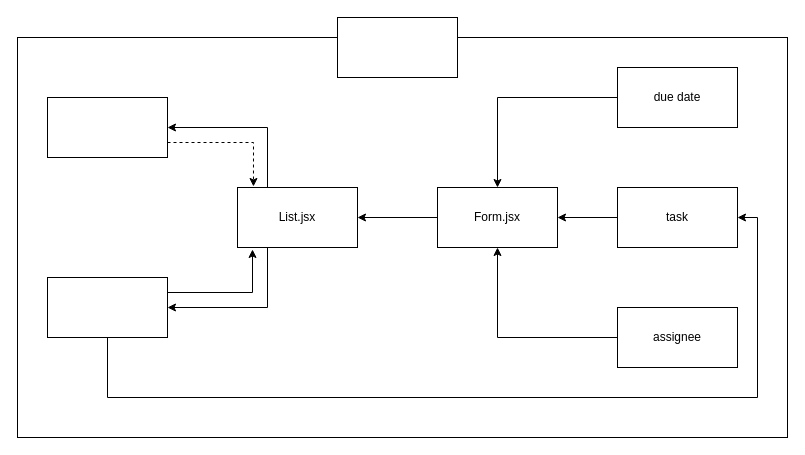
This 805x455 diagram has some shape labels left out. Each missing label, with the box of its shape:
Delete item: (46, 96, 168, 158)
ToDo: (336, 16, 458, 78)
Update Item: (46, 276, 168, 338)
